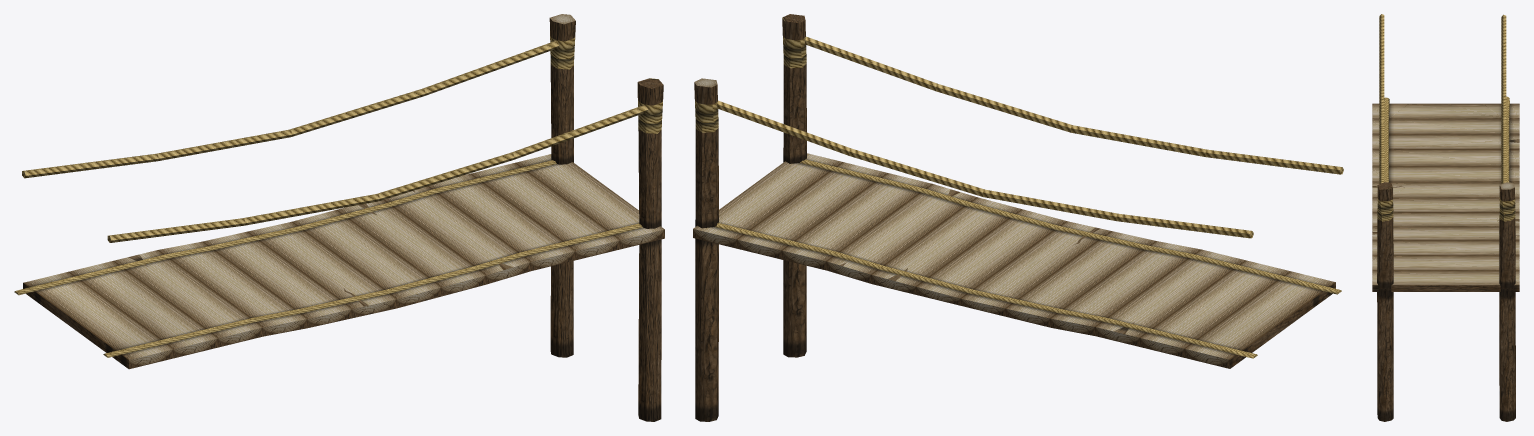
File: p2_platform1_I_LOD0.fbx
3 renders of one model, left to right at view 1: azimuth 30°, elevation 25°; view 2: azimuth 150°, elevation 25°; view 3: azimuth 270°, elevation 25°, orthographic. The views are drawn at different scales.
Parts seen in each view (by area): view 1: polymsh; view 2: polymsh; view 3: polymsh.
Part boxes in pixels (left/top/right/bottom): polymsh: left=14, top=14, right=664, bottom=421; polymsh: left=693, top=14, right=1343, bottom=421; polymsh: left=1372, top=14, right=1519, bottom=421.
Size of the model in its own units: 312 by 179 by 103.
